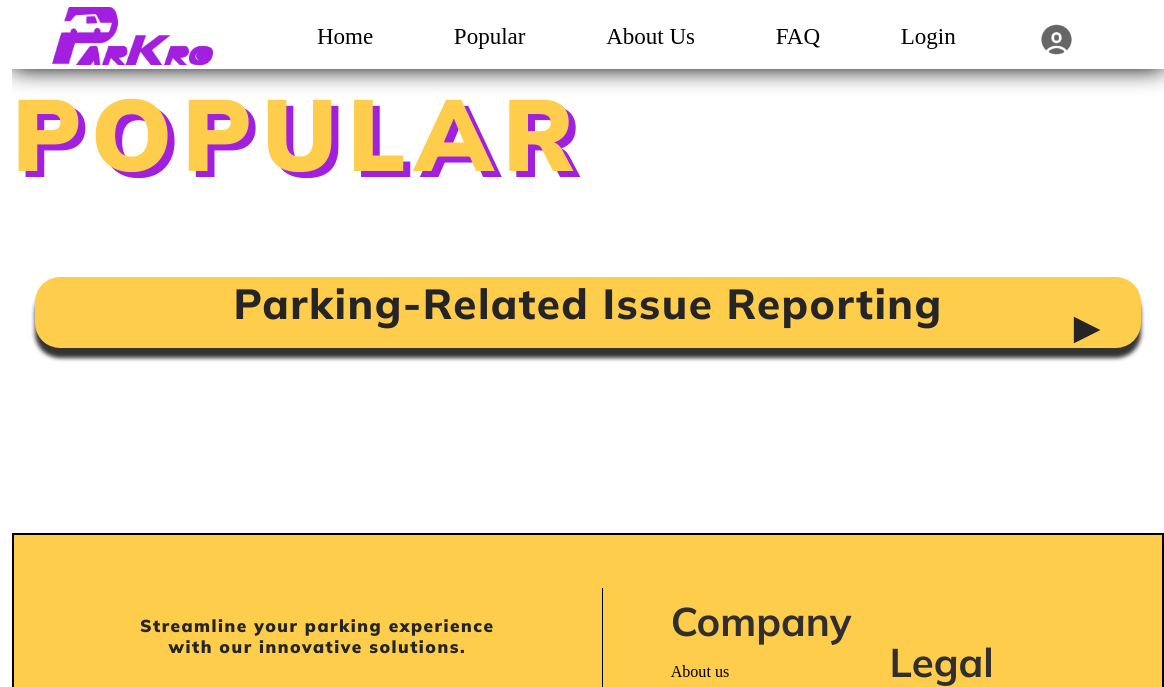
it: Popular Component › toggles dropdown on click
Click the text "Parking-Related Issue Reporting" at [588, 312], box [35,277,1141,348]
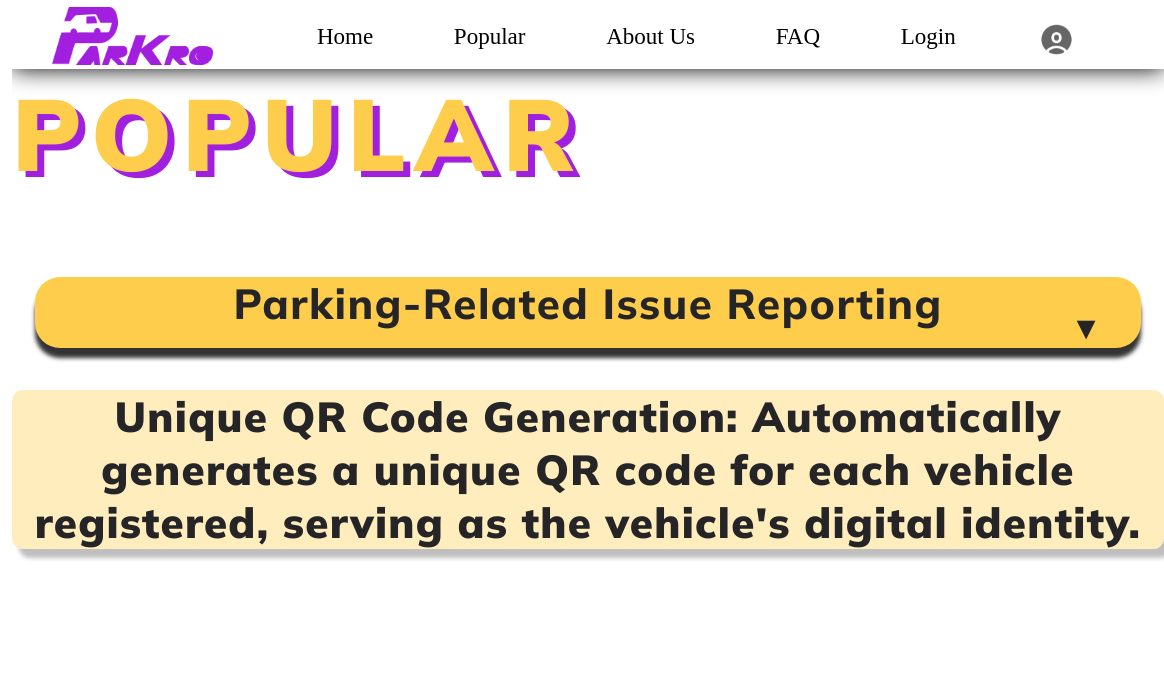
Expected: the text "Unique QR Code Generation" is shown, [35,390,1141,549]
Click the text "Parking-Related Issue Reporting" at [588, 312], box [35,277,1141,348]
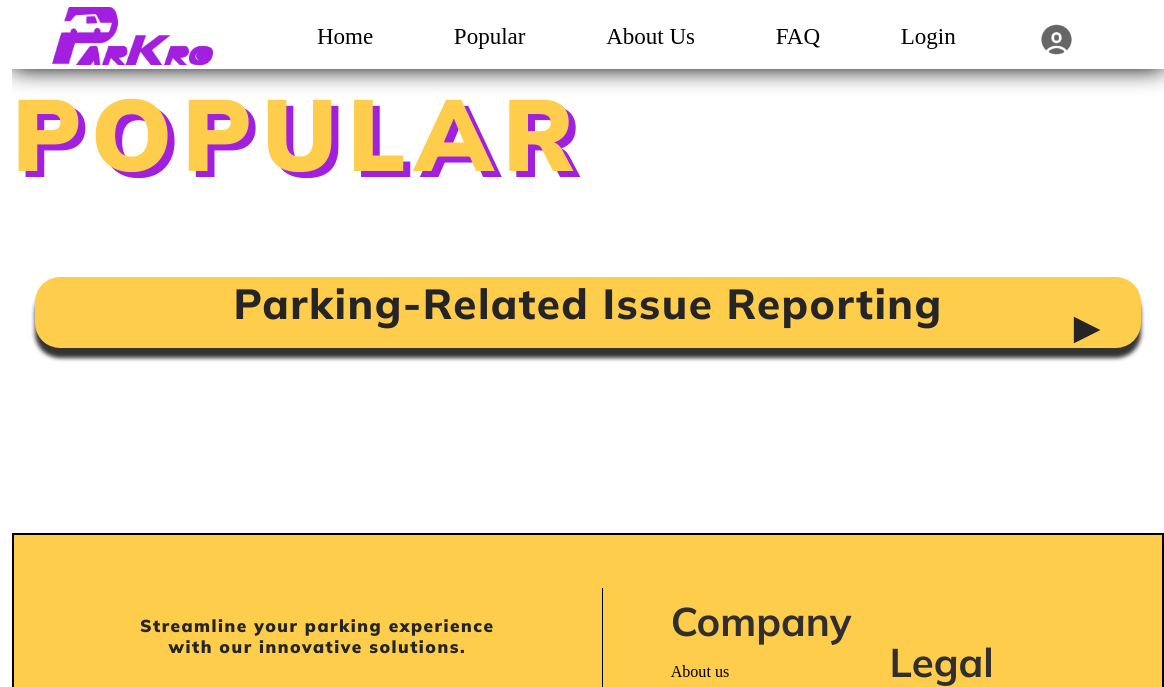
Expected: the text "Unique QR Code Generation" is gone
